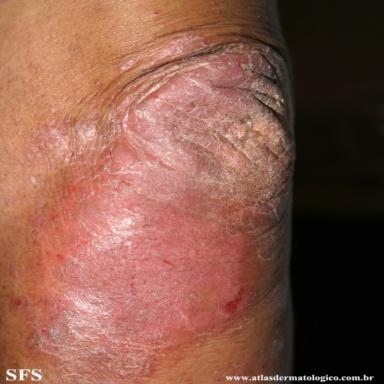Psoriasis: (9, 34, 292, 384)
